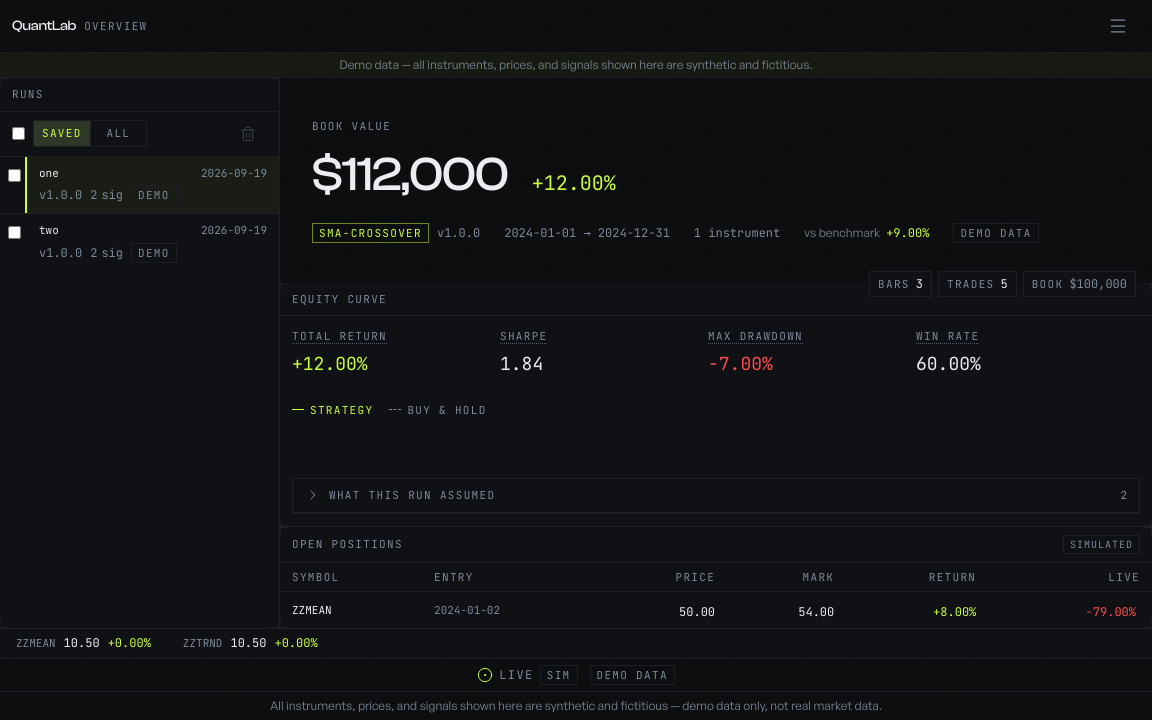
Test: Overview › select-all ticks every listed run, and unticks them again
Click the checkbox named "select all listed runs" at (18, 134), box 12,127 -> 25,140
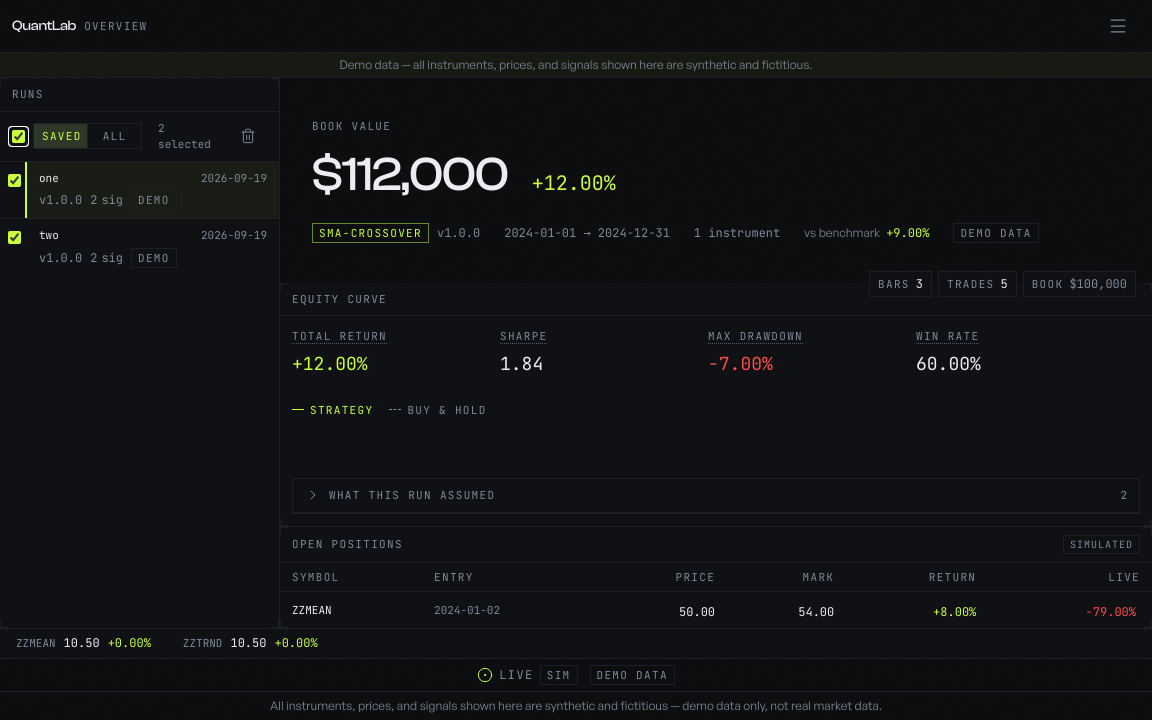
Now the text with test id "runs-selected-count" reads "2 selected", box 158,120 -> 211,151
Click the checkbox named "select all listed runs" at (18, 136), box 12,130 -> 25,142
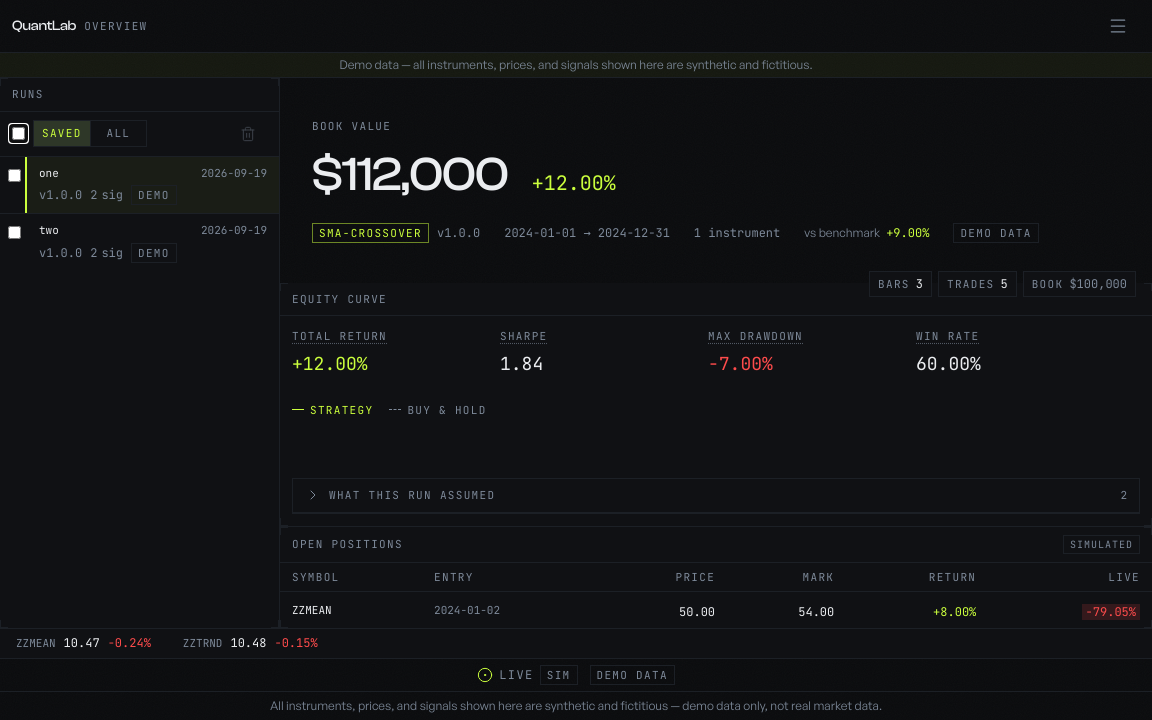
Now the text with test id "runs-selected-count" is gone
